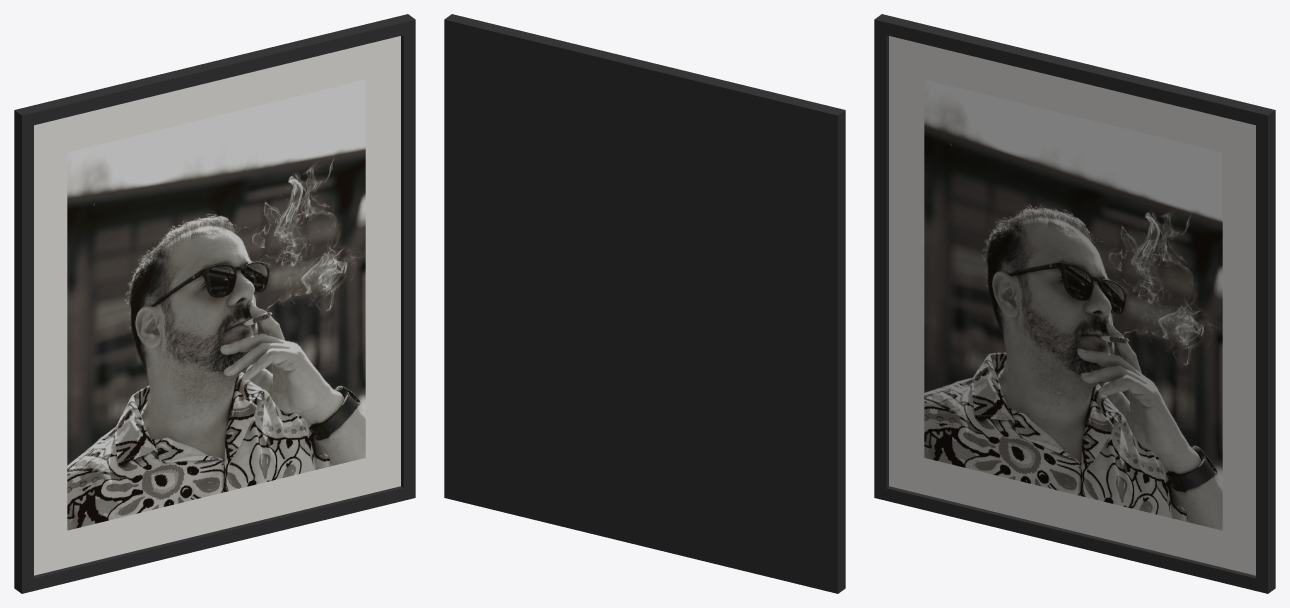
Rendered from roken-60.gltf.
The picture shows the model from 3 angles, left to right: view 1: azimuth 30°, elevation 25°; view 2: azimuth 150°, elevation 25°; view 3: azimuth 330°, elevation 25°; orthographic projection.
Parts seen in each view (by area): view 1: tavla; view 2: tavla; view 3: tavla.
Boxes of the visible parts, <box> form: tavla: <box>14,14,415,593</box>; tavla: <box>444,14,845,593</box>; tavla: <box>874,14,1275,593</box>.
Bounding box in the file's own units: 0.6538 × 0.7588 × 0.022.
Materials: 3 (1 with a texture image).
